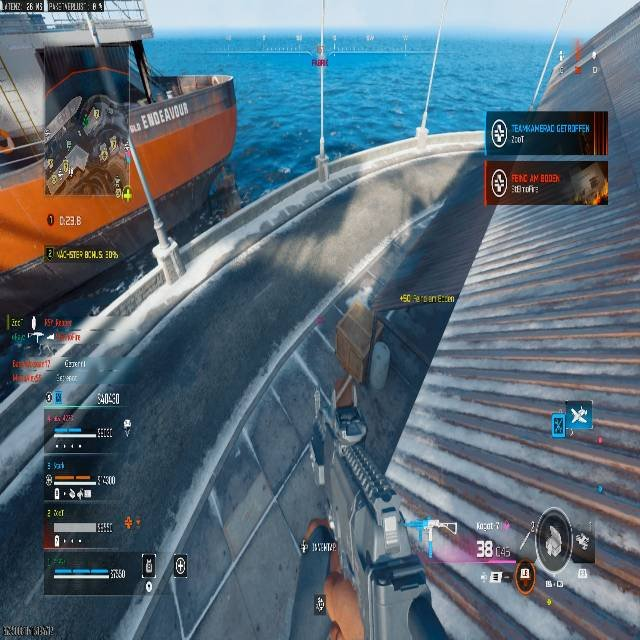player: (35, 46, 128, 197)
